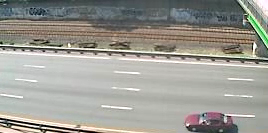car: (182, 108, 235, 133)
